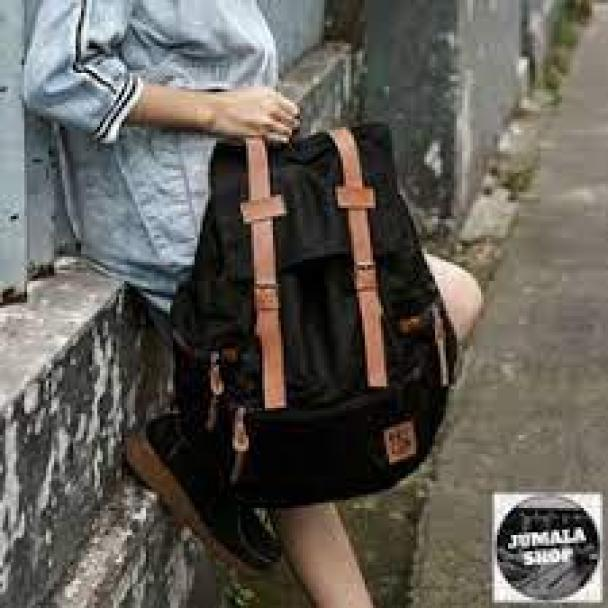Tas: (188, 119, 454, 505)
